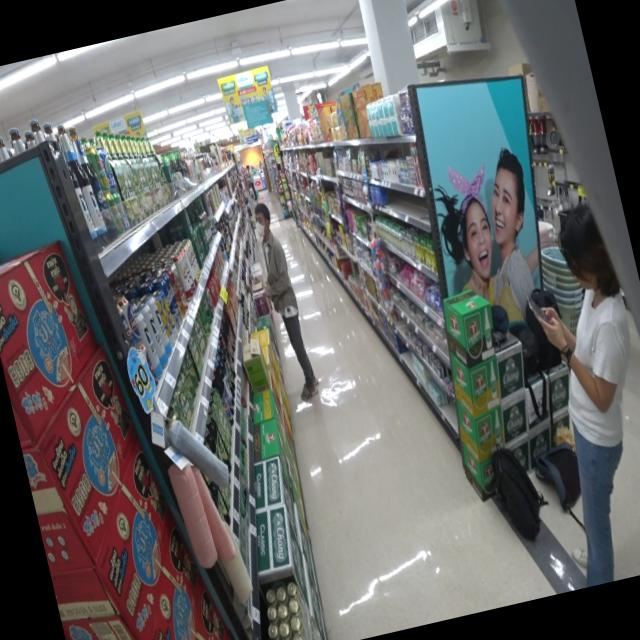shoplifting: (243, 200, 324, 408)
